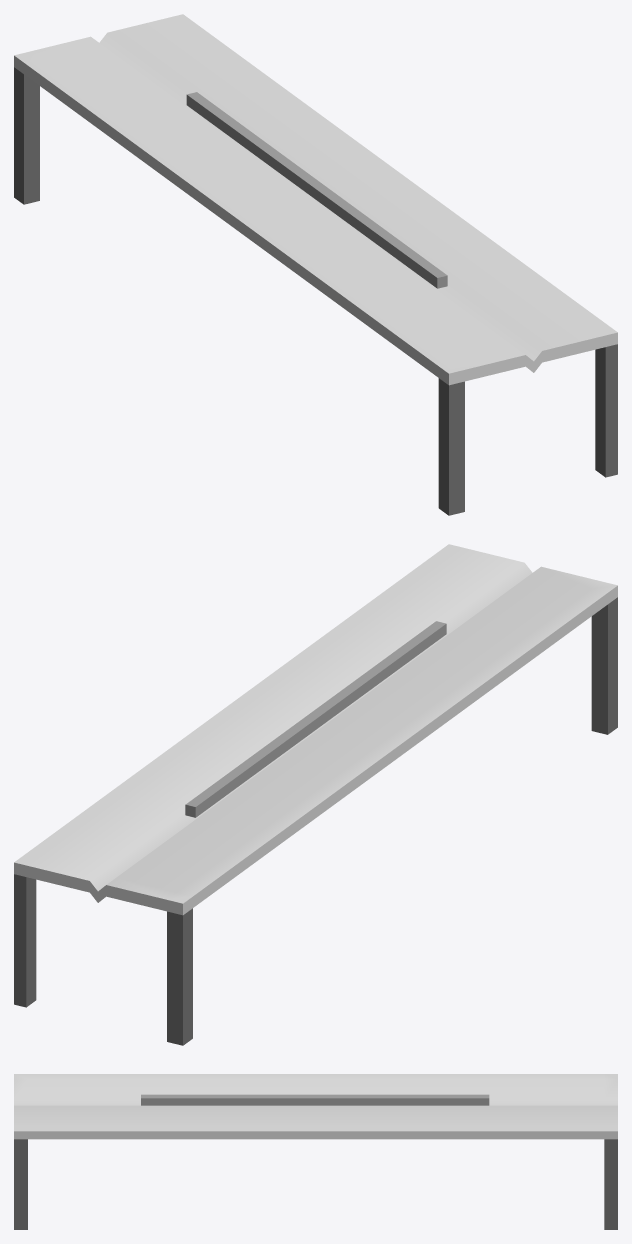
File: Table.fbx
The picture shows the model from 3 angles, top to bottom: view 1: azimuth 30°, elevation 25°; view 2: azimuth 150°, elevation 25°; view 3: azimuth 270°, elevation 25°; orthographic projection. The views are drawn at different scales.
Visible parts, largest first — view 1: Table1; view 2: Table1; view 3: Table1.
Part boxes in pixels (left/top/right/bottom): Table1: left=14, top=14, right=617, bottom=515; Table1: left=14, top=544, right=617, bottom=1045; Table1: left=14, top=1074, right=617, bottom=1229.
Bounding box in the file's own units: 1 × 0.8551 × 4.45.
